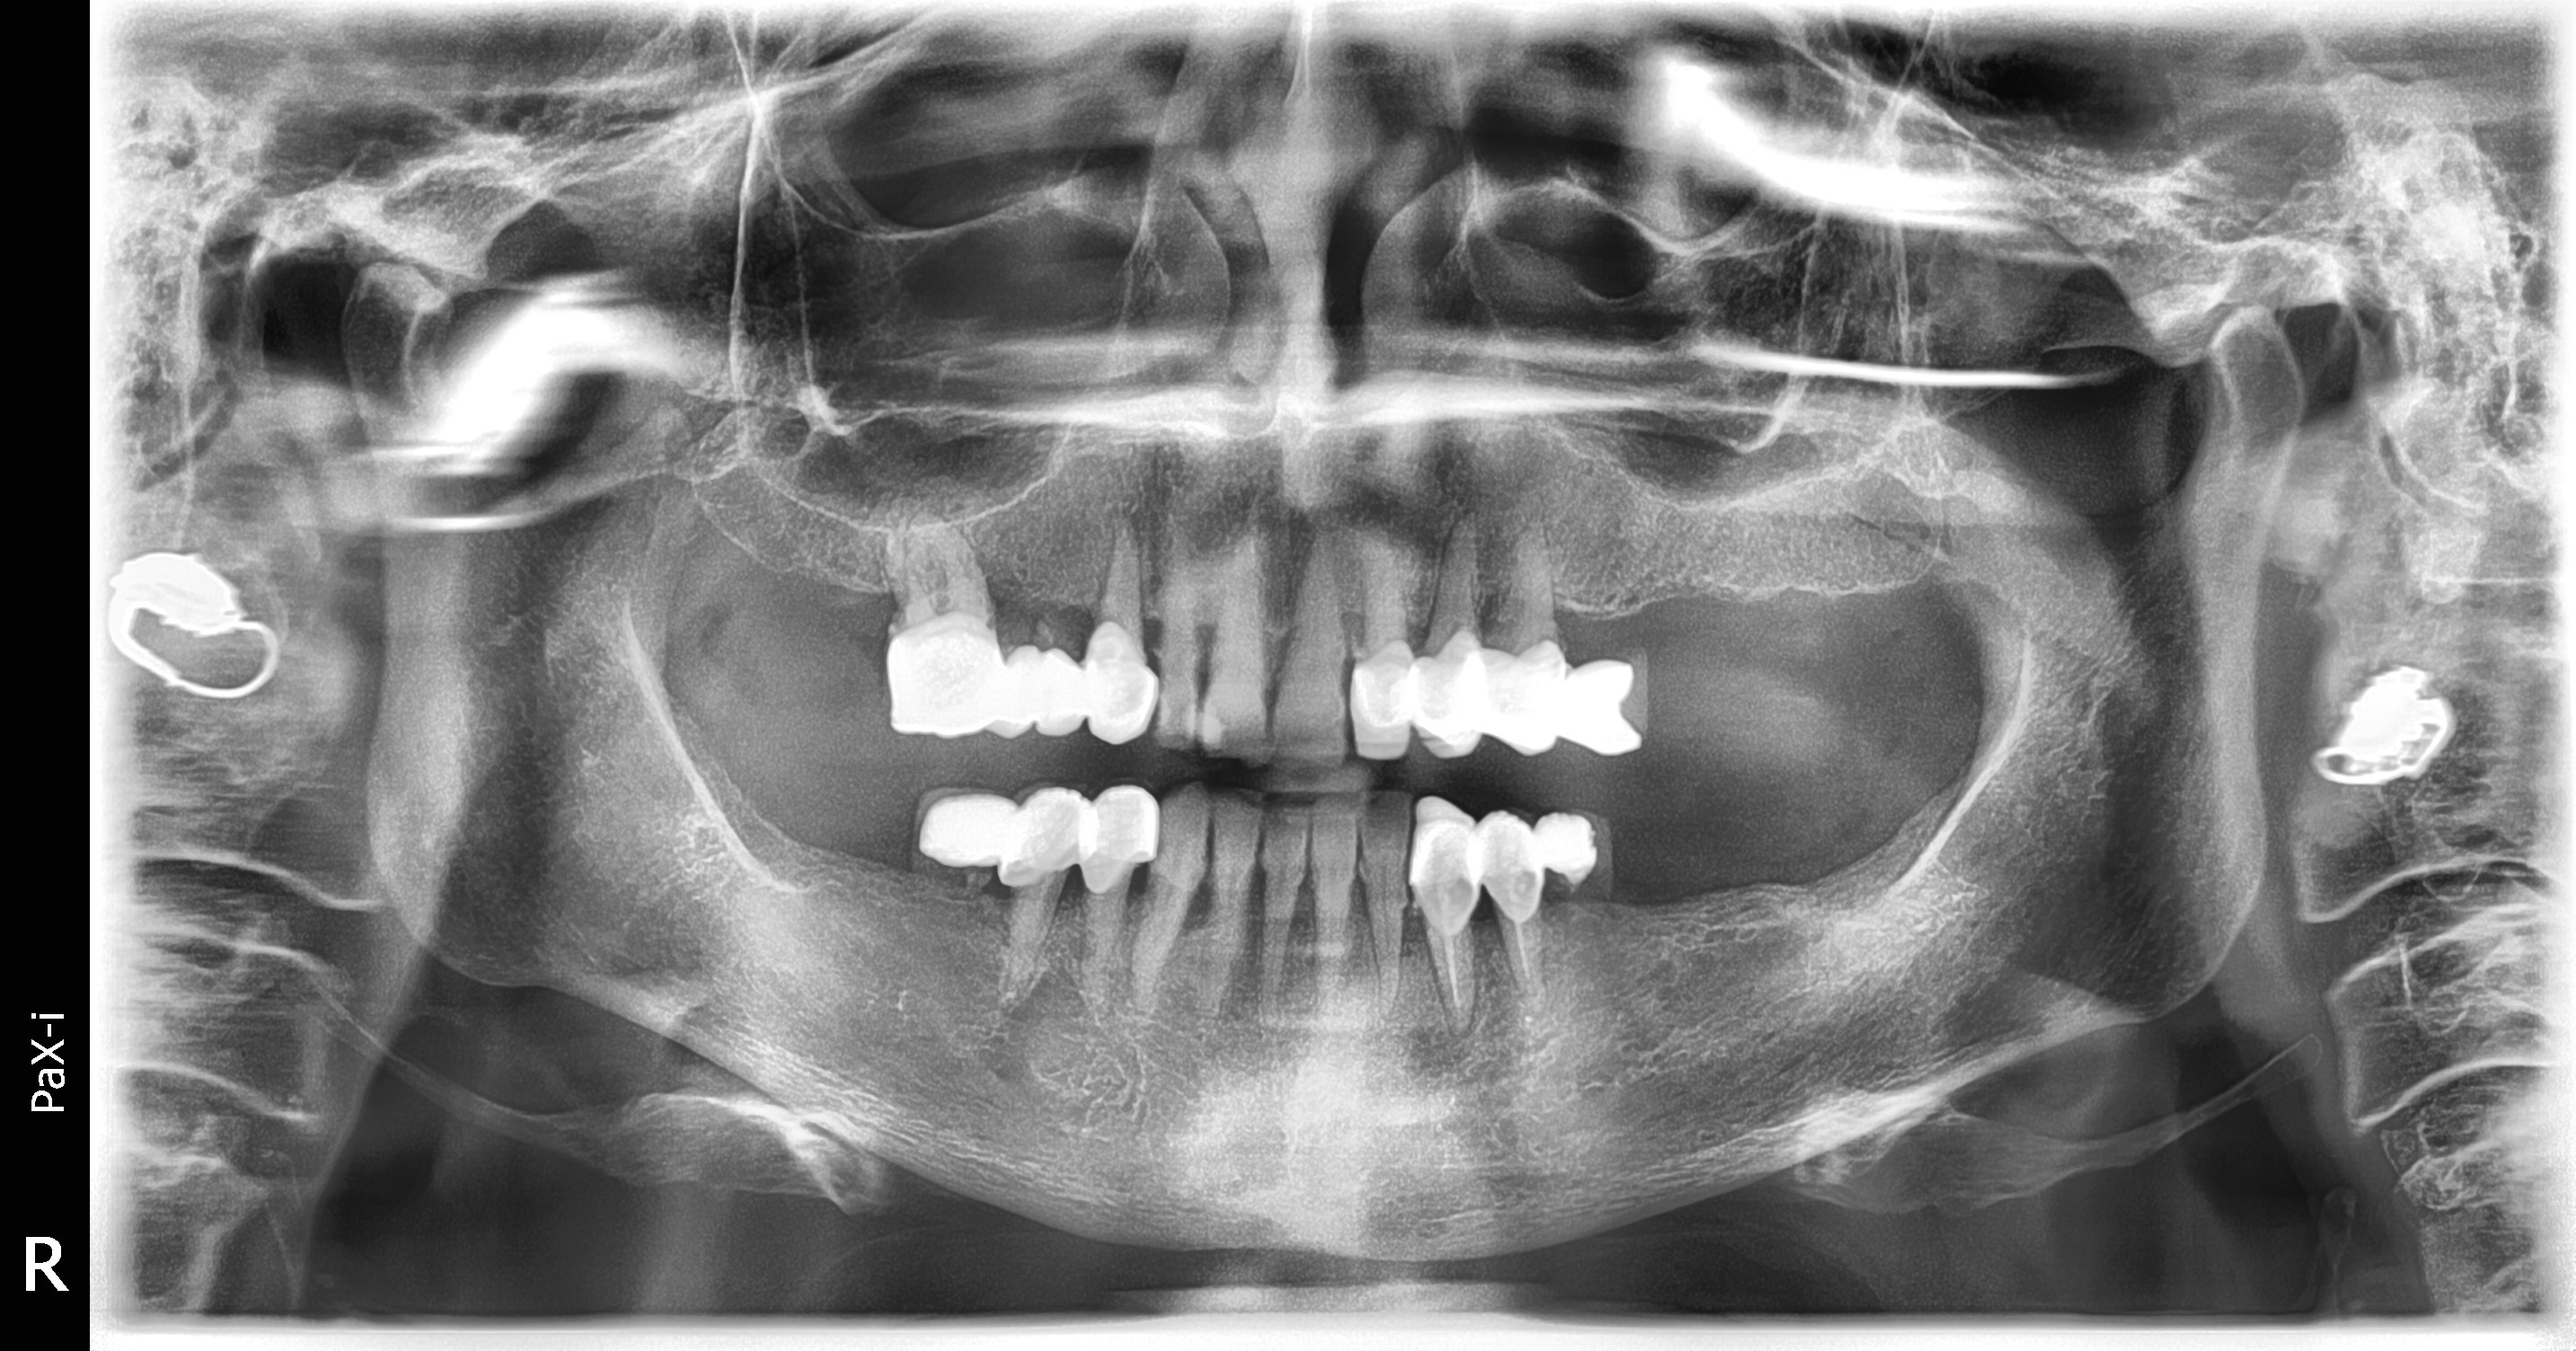BON: (688, 429, 2111, 1351), (671, 428, 2036, 1341), (637, 417, 1952, 1337), (624, 404, 1888, 1322), (586, 407, 1796, 1337), (557, 417, 1707, 1319), (521, 424, 1605, 1331), (480, 419, 1498, 1325), (702, 296, 2125, 940), (664, 291, 2024, 940), (589, 295, 1806, 964), (566, 290, 1738, 956), (487, 262, 1489, 915), (429, 278, 1324, 903)
OBT: (586, 327, 1821, 1073), (581, 322, 1779, 1055), (572, 327, 1739, 1065)
PRR: (618, 341, 2218, 1262), (537, 269, 2176, 1027), (344, 319, 1499, 1220), (307, 249, 1457, 988)
